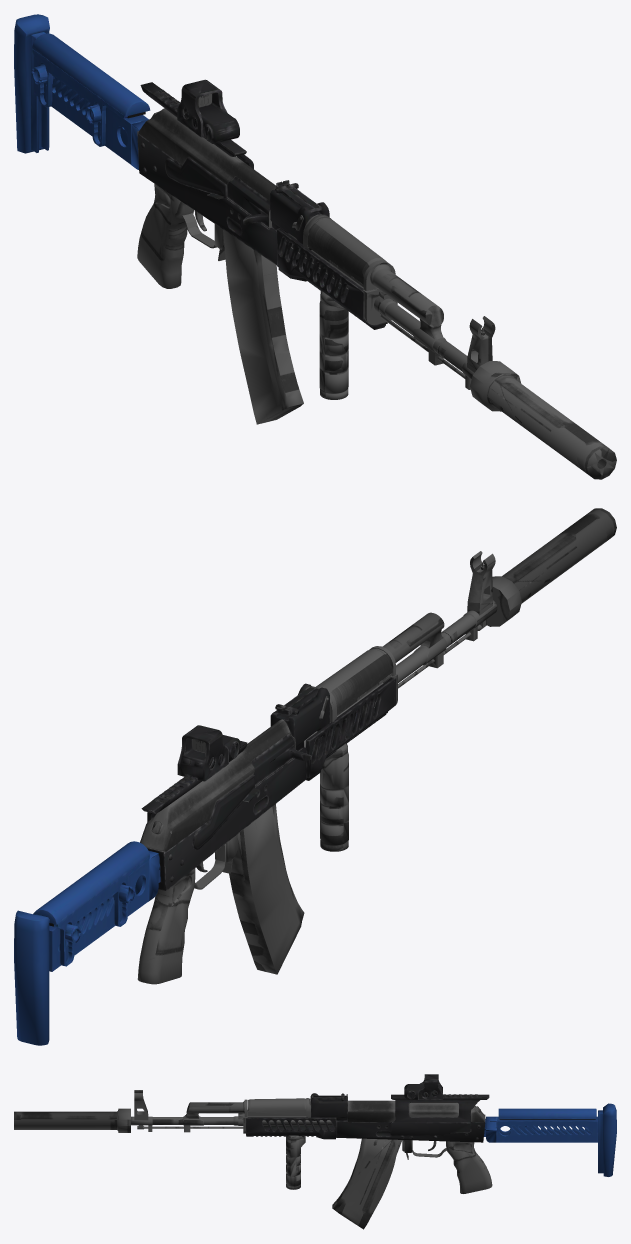
Rendered from r5_blue.glb.
3 views of the same model, one above another, from view 1: azimuth 30°, elevation 25°; view 2: azimuth 150°, elevation 25°; view 3: azimuth 270°, elevation 25° (orthographic). The views are drawn at different scales.
Visible parts, largest first — view 1: body; view 2: body; view 3: body.
Part boxes in pixels (x1,y1,x2,y2): body: [14, 14, 616, 479]; body: [14, 508, 616, 1045]; body: [14, 1074, 616, 1229].
Size of the model in its own units: 0.0485 by 0.2472 by 0.9.
Materials: 8 (8 with a texture image).
